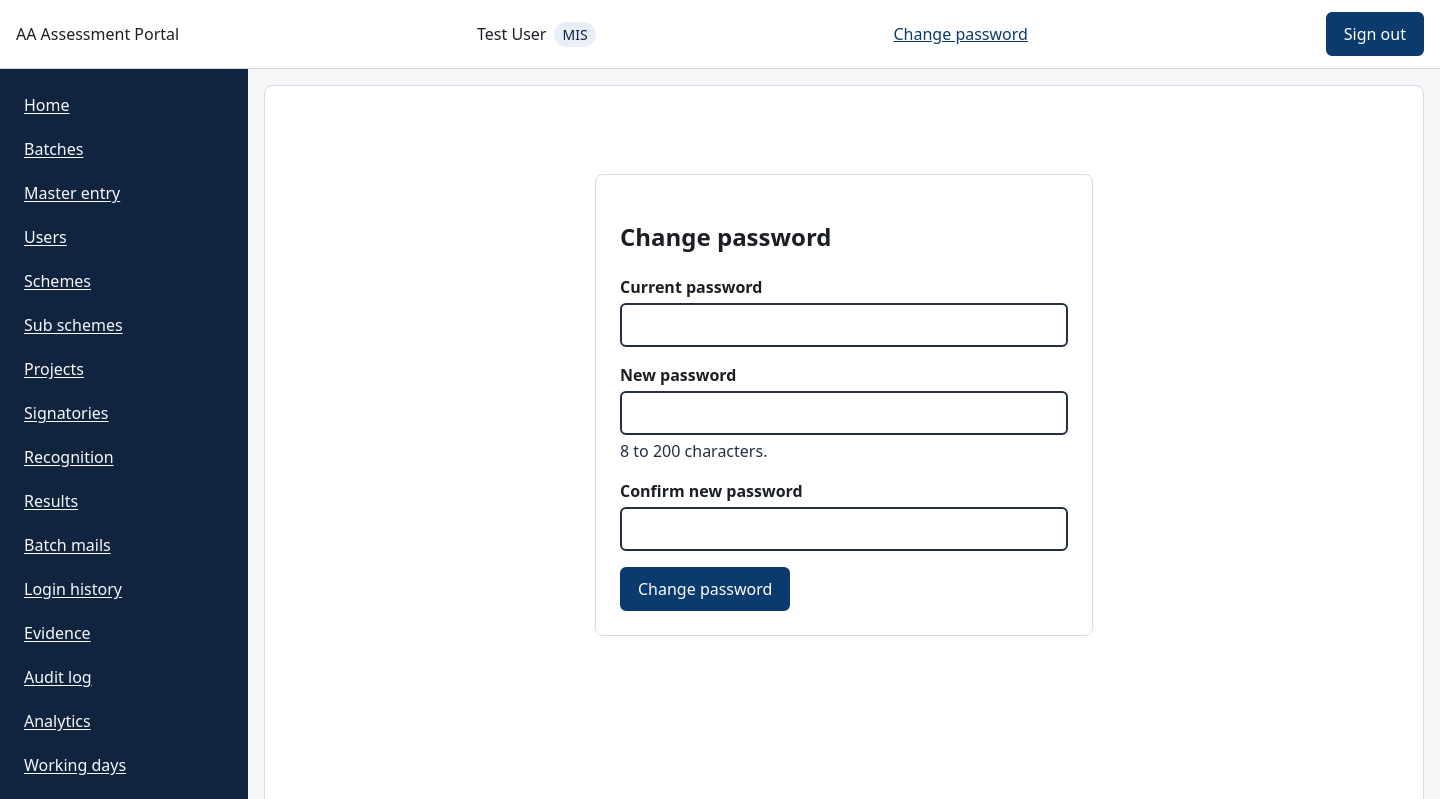
shows the server message for other failures and never stores the password
Expected: the heading "Change password" is shown, top-left (620, 220), bottom-right (832, 253)
In the password field labelled "Current password": (844,325) top-left (620, 303), bottom-right (1068, 347), type "old-password-1"
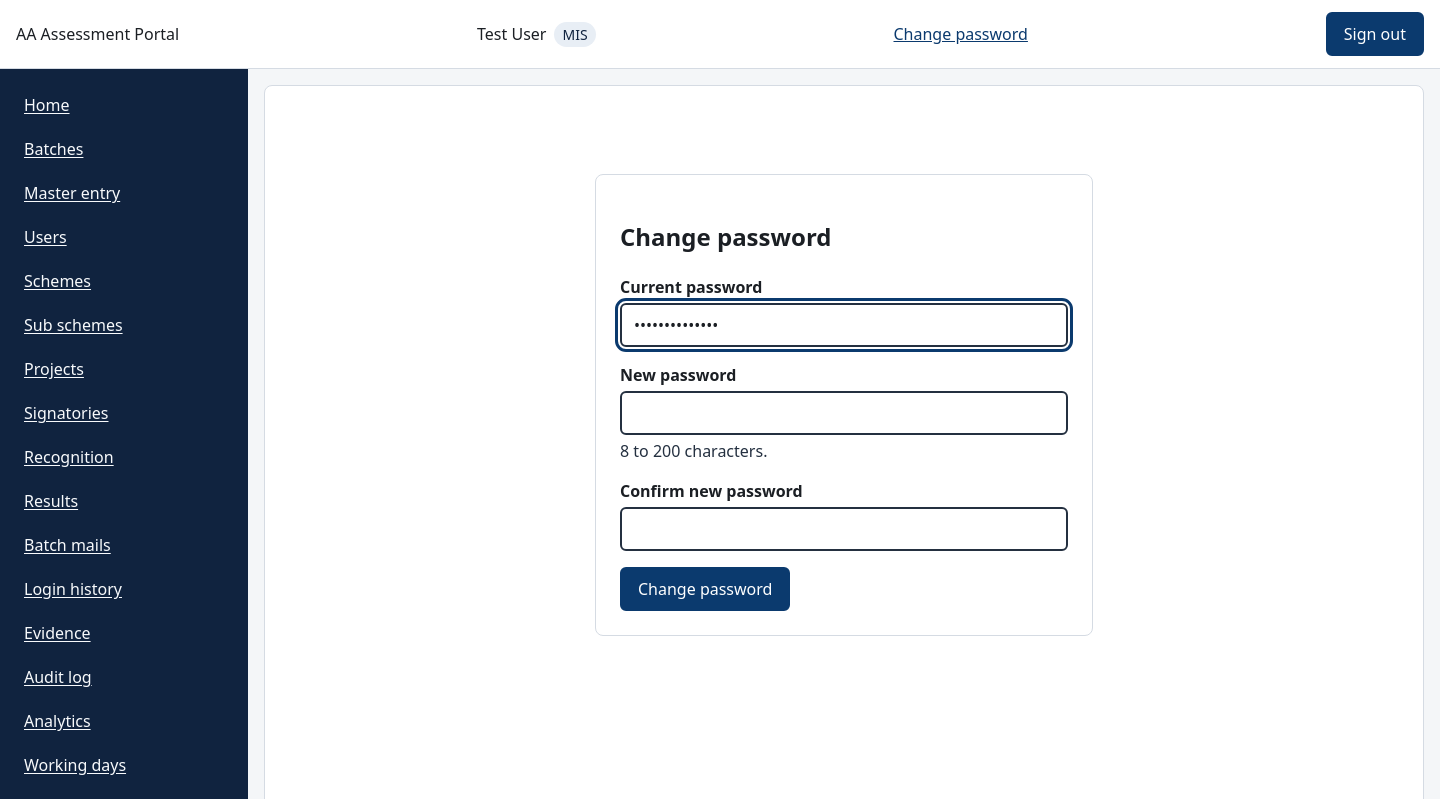
In the password field labelled "New password": (844,413) top-left (620, 391), bottom-right (1068, 435), type "new-password-2"
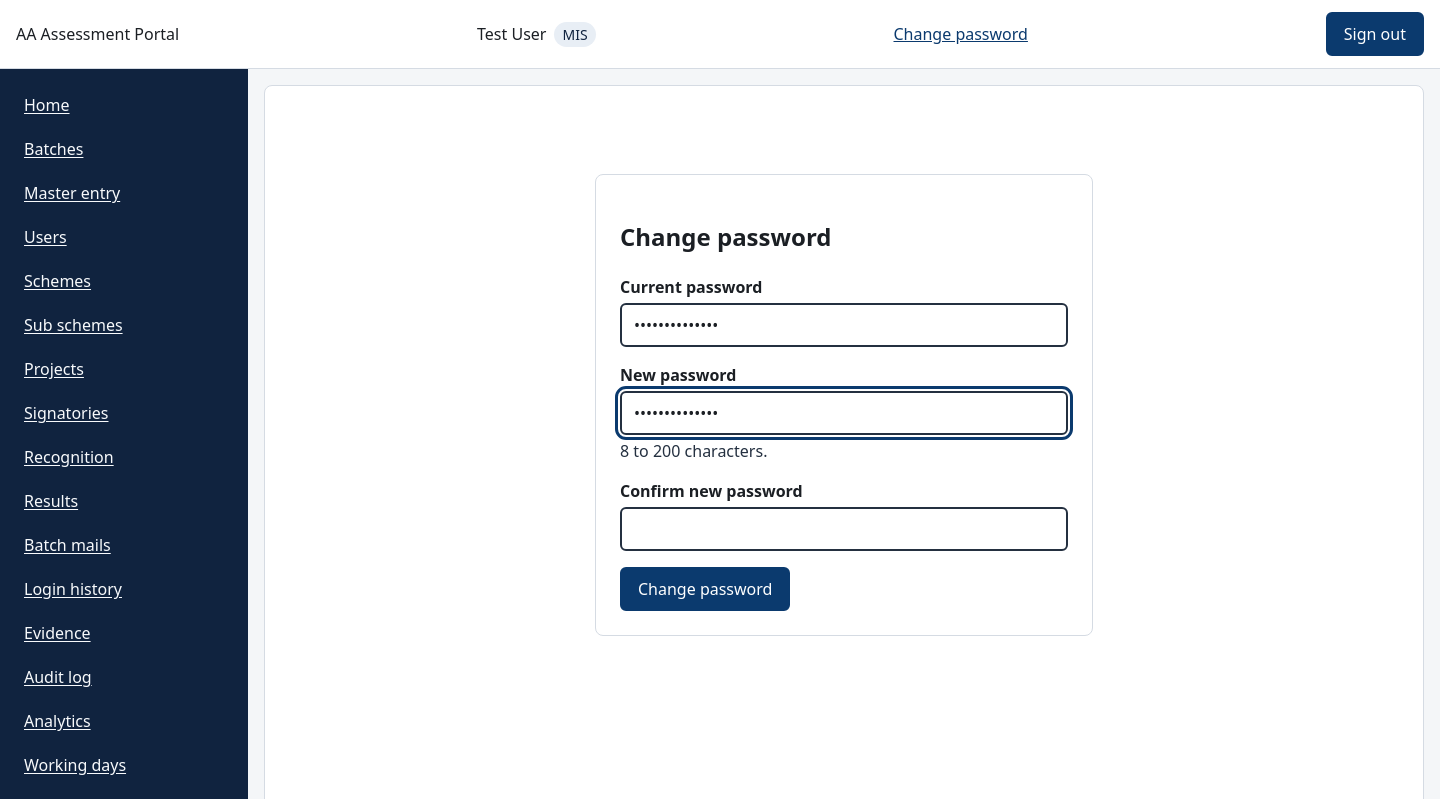
In the password field labelled "Confirm new password": (844,529) top-left (620, 507), bottom-right (1068, 551), type "new-password-2"
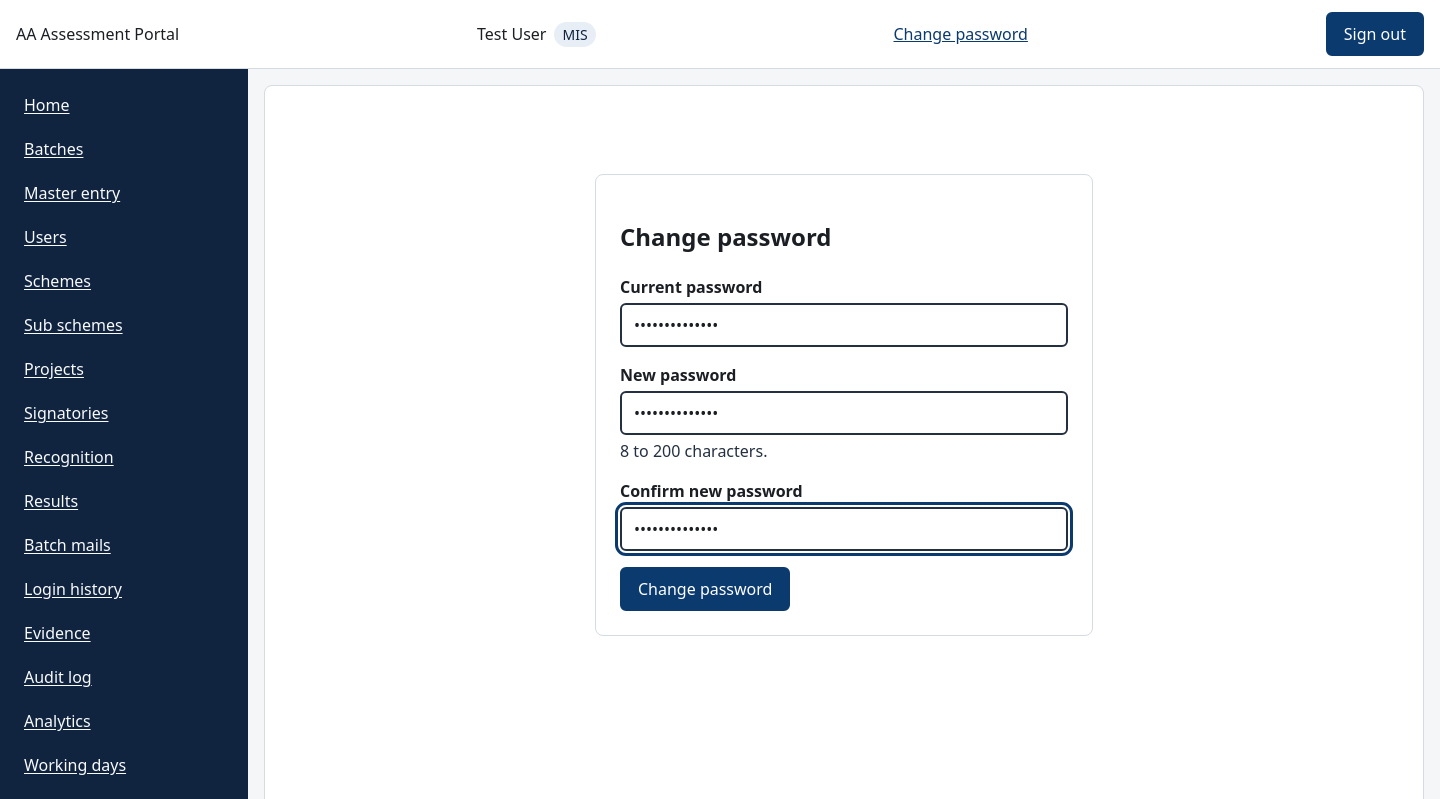
Click the button "Change password": (705,589) top-left (620, 567), bottom-right (790, 611)
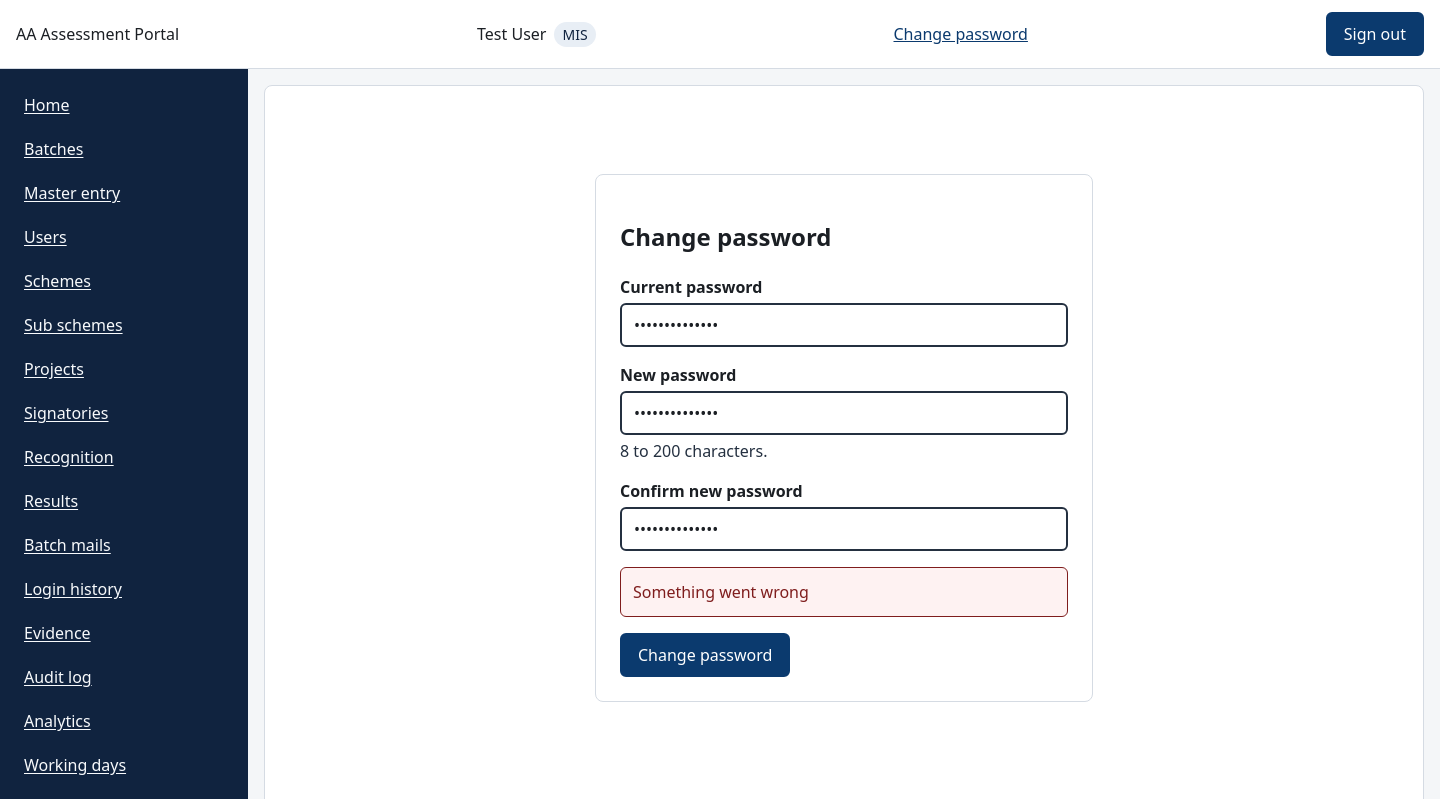
Expected: the message reads "Something went wrong", top-left (633, 581), bottom-right (809, 603)
